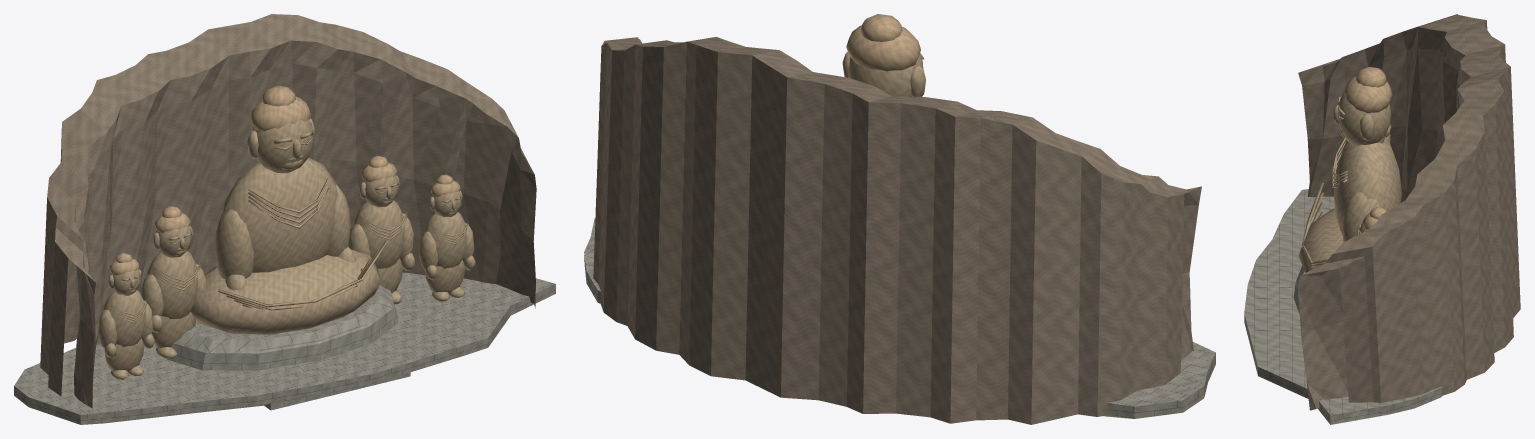
File: longmen.glb
The picture shows the model from 3 angles, left to right: view 1: azimuth 30°, elevation 25°; view 2: azimuth 150°, elevation 25°; view 3: azimuth 270°, elevation 25°; orthographic projection. The views are drawn at different scales.
Parts seen in each view (by area): view 1: 龙门石窟; view 2: 龙门石窟; view 3: 龙门石窟.
Part boxes in pixels (x1,y1,x2,y2): 龙门石窟: (14,14,555,424); 龙门石窟: (584,14,1215,424); 龙门石窟: (1244,14,1520,424).
Size of the model in its own units: 7.43 by 3.72 by 3.68.
4 materials, 4 textured.
